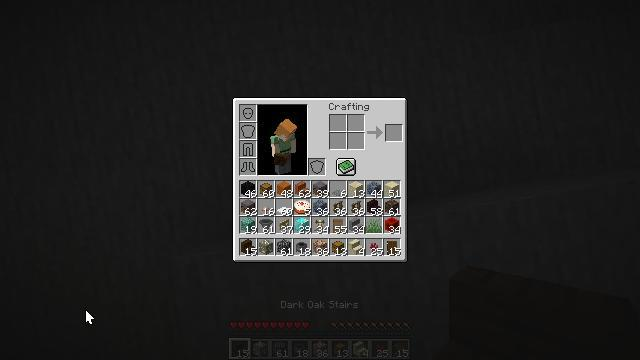cursor: (309, 85, 325, 95)
